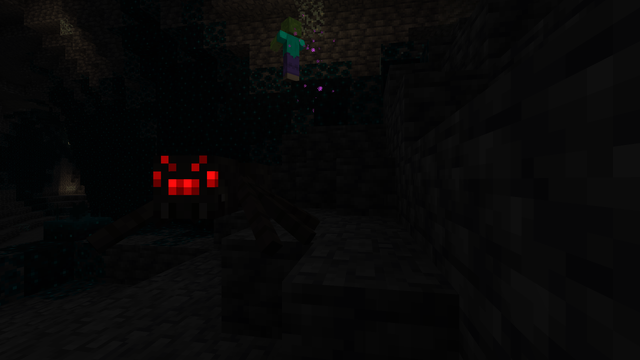araignees: (98, 142, 301, 263)
zombies: (279, 17, 300, 84)
